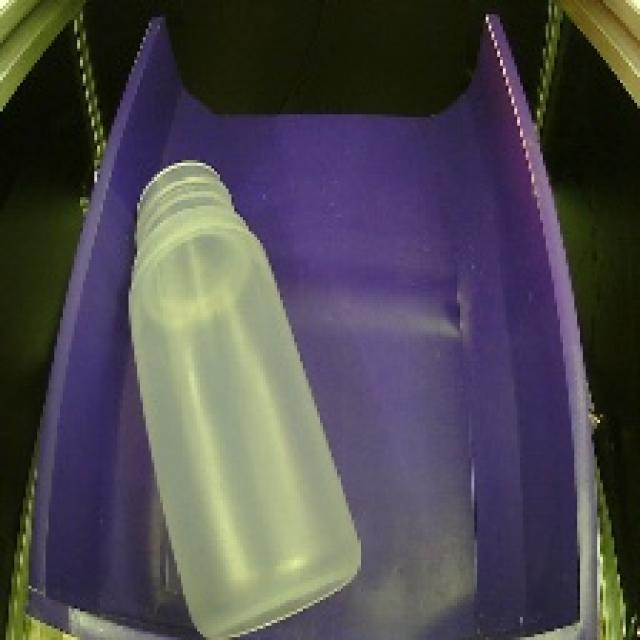plastic: (110, 140, 373, 640)
